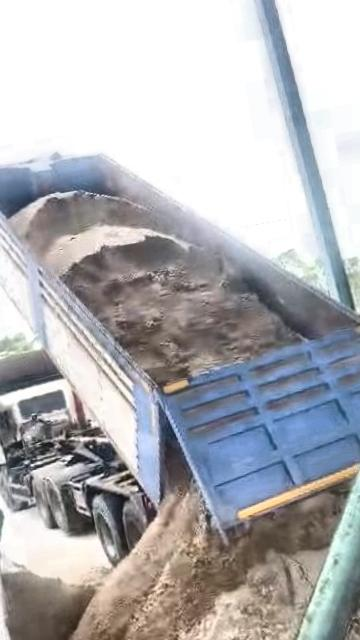sand: (12, 193, 299, 383), (44, 494, 344, 640), (3, 562, 94, 640), (319, 478, 360, 640), (162, 443, 211, 527), (74, 566, 110, 589)
